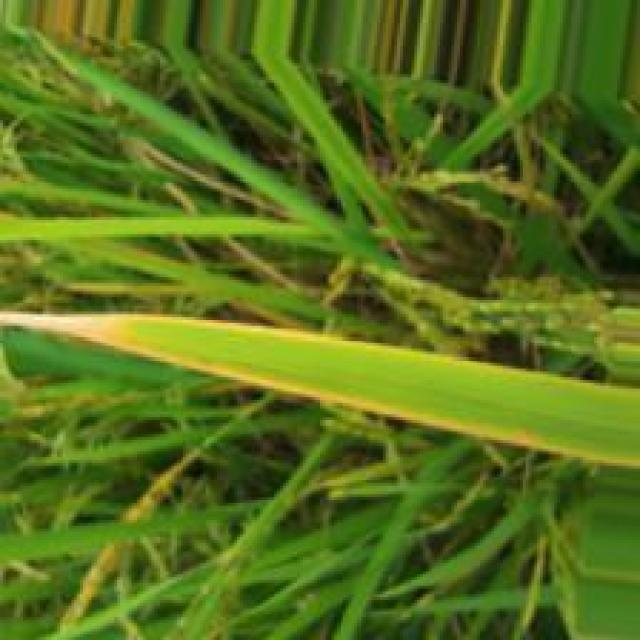Leaf_Scald: (13, 314, 135, 346)
